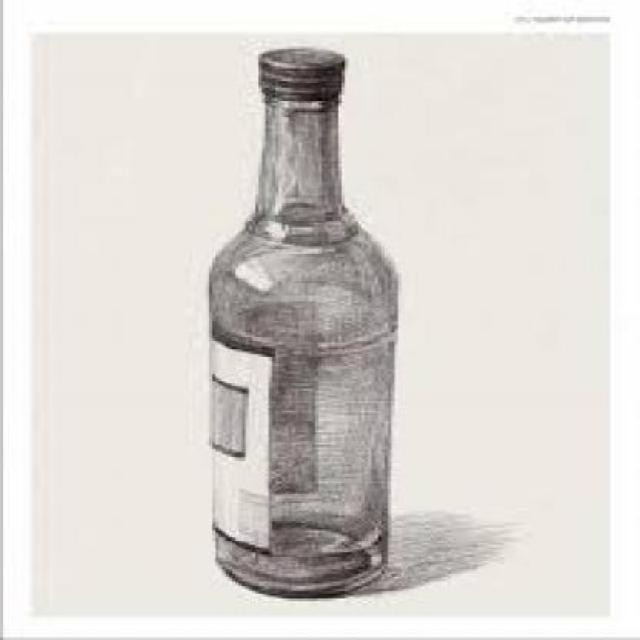kaca: (209, 91, 388, 595)
